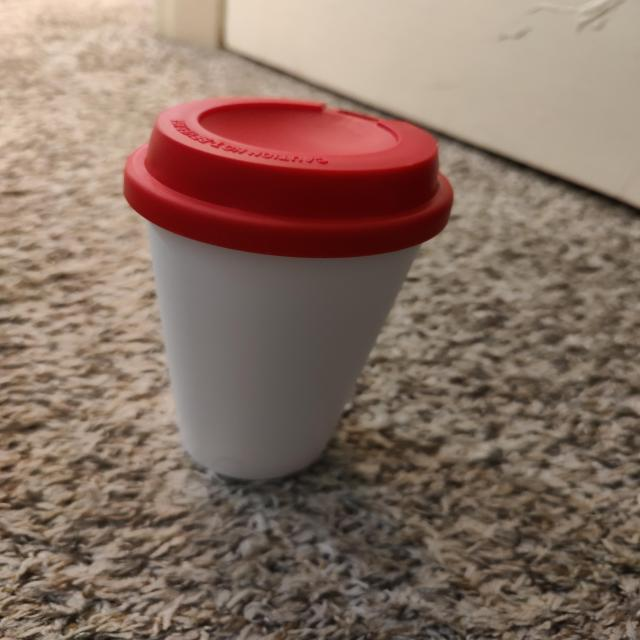mug: (111, 98, 474, 492)
